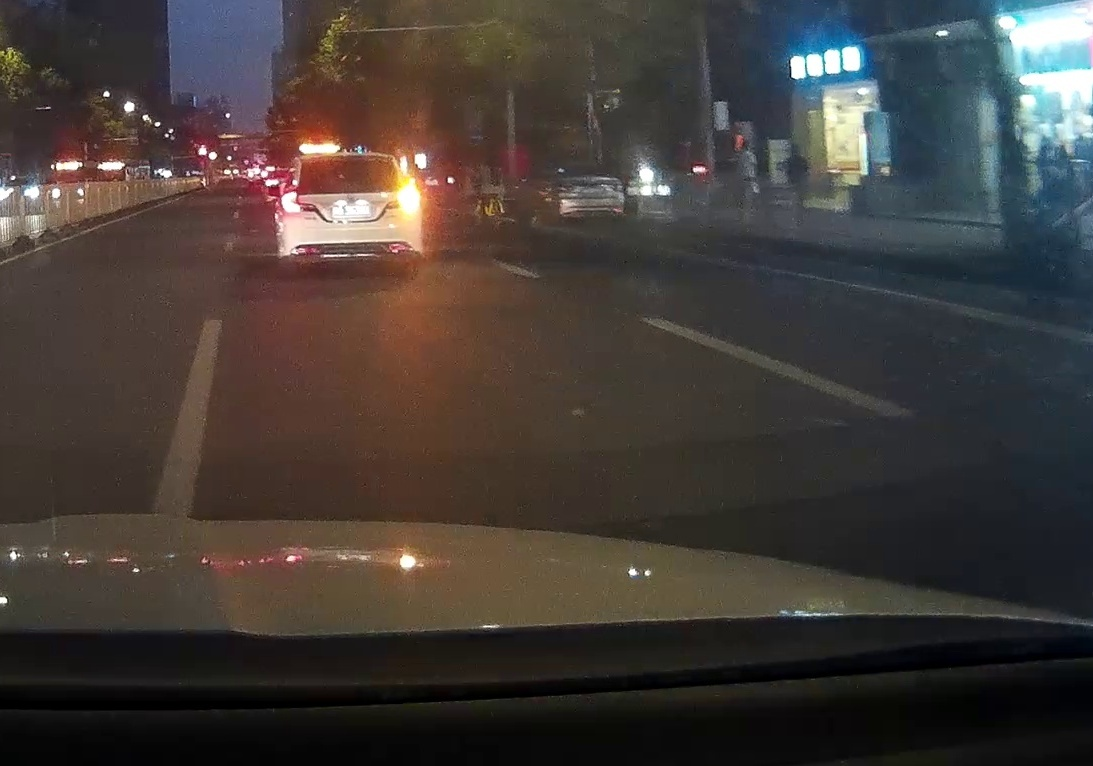L_light: (280, 190, 301, 214)
R_light: (395, 183, 421, 214)
T_light: (338, 154, 365, 160)
night-right: (278, 152, 423, 276)
